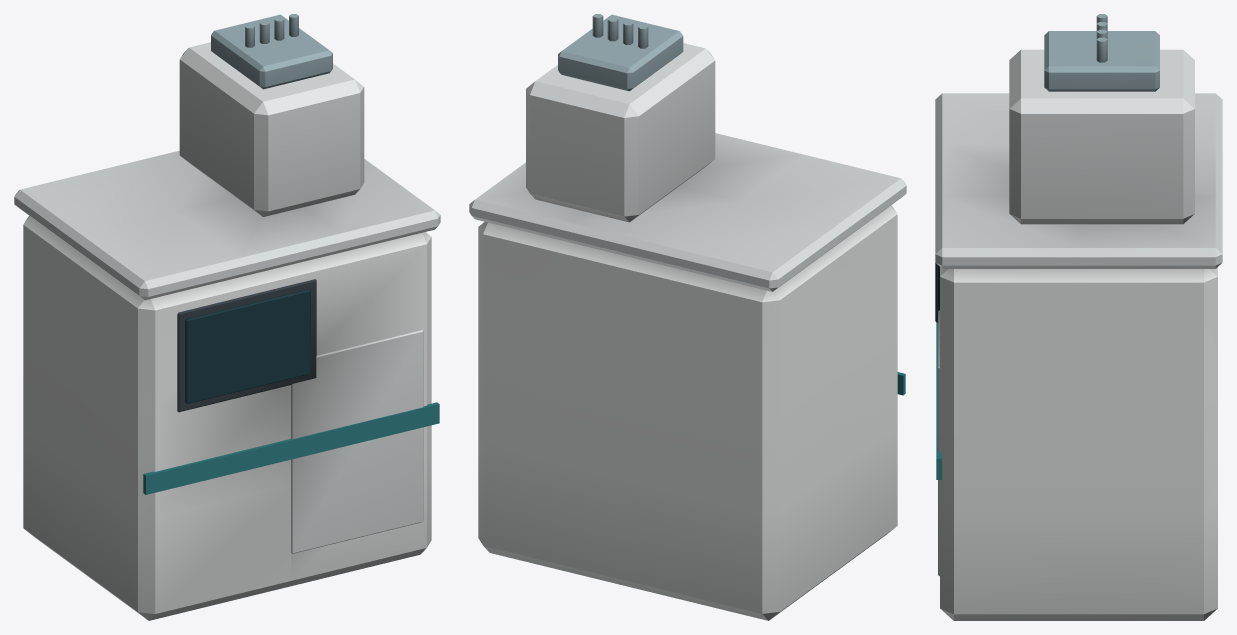
File: analyzer.glb
3 views of the same model, side by side, from view 1: azimuth 30°, elevation 25°; view 2: azimuth 150°, elevation 25°; view 3: azimuth 270°, elevation 25° (orthographic). The views are drawn at different scales.
Parts seen in each view (by area): view 1: body, lid, module, seam, screen, stripe, tray, bezel; view 2: body, lid, module, tray; view 3: body, module, lid, tray, seam, stripe.
Boxes of the visible parts, bbox=[...] form: body: bbox=[23, 216, 431, 620]; lid: bbox=[14, 150, 440, 300]; module: bbox=[179, 42, 364, 216]; seam: bbox=[291, 330, 423, 553]; screen: bbox=[185, 289, 310, 403]; stripe: bbox=[143, 402, 439, 494]; tray: bbox=[211, 14, 332, 89]; bezel: bbox=[177, 279, 316, 412]; body: bbox=[478, 205, 897, 620]; lid: bbox=[469, 133, 906, 291]; module: bbox=[526, 43, 715, 222]; tray: bbox=[558, 14, 683, 91]; body: bbox=[940, 267, 1217, 620]; module: bbox=[1009, 49, 1194, 224]; lid: bbox=[935, 93, 1222, 268]; tray: bbox=[1044, 14, 1159, 91]; seam: bbox=[938, 310, 939, 576]; stripe: bbox=[936, 322, 941, 479].
Bounding box in the file's own units: 0.82 × 1.31 × 0.62.
